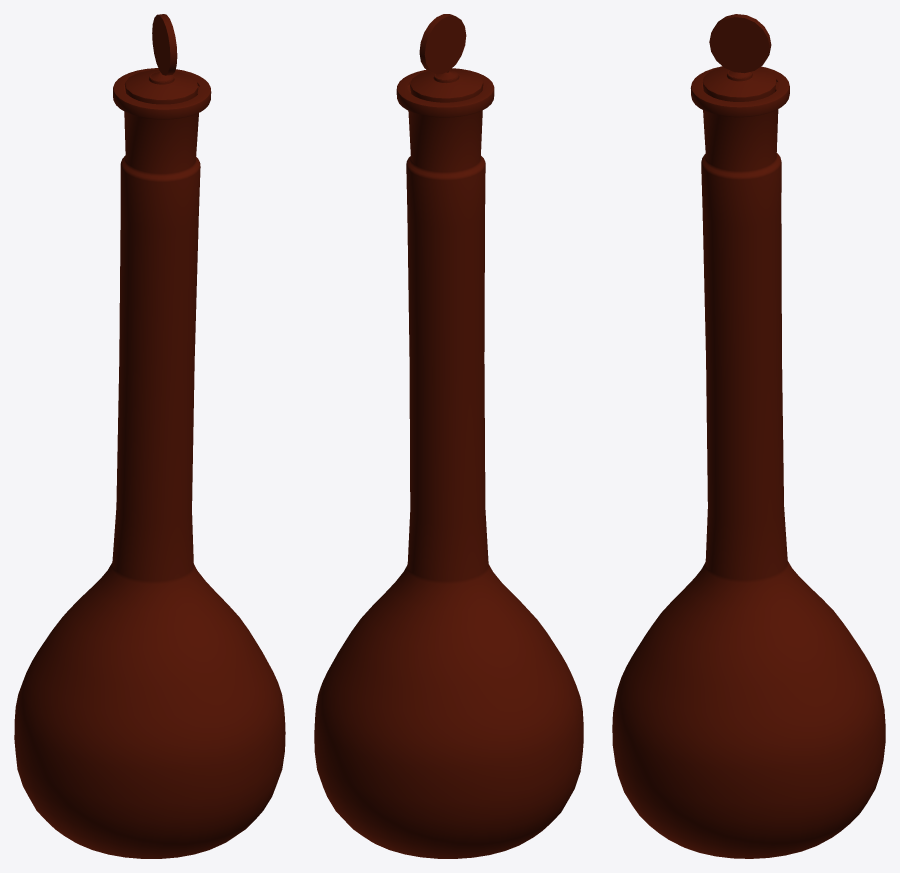
Rendered from 容量瓶.fbx.
3 views of the same model, side by side, from view 1: azimuth 30°, elevation 25°; view 2: azimuth 150°, elevation 25°; view 3: azimuth 270°, elevation 25° (orthographic).
Visible parts, largest first — view 1: Line002, Line003, Cylinder001; view 2: Line002, Cylinder001, Line003; view 3: Line002, Cylinder001, Line003.
Part boxes in pixels (bbox=[...]): Line002: bbox=[14, 68, 285, 858]; Line003: bbox=[125, 69, 198, 104]; Cylinder001: bbox=[152, 14, 177, 75]; Line002: bbox=[314, 68, 583, 858]; Cylinder001: bbox=[419, 14, 466, 73]; Line003: bbox=[410, 68, 483, 102]; Line002: bbox=[612, 66, 885, 858]; Cylinder001: bbox=[709, 14, 771, 73]; Line003: bbox=[703, 67, 776, 101].
Bounding box in the file's own units: 646 × 2121 × 646.
